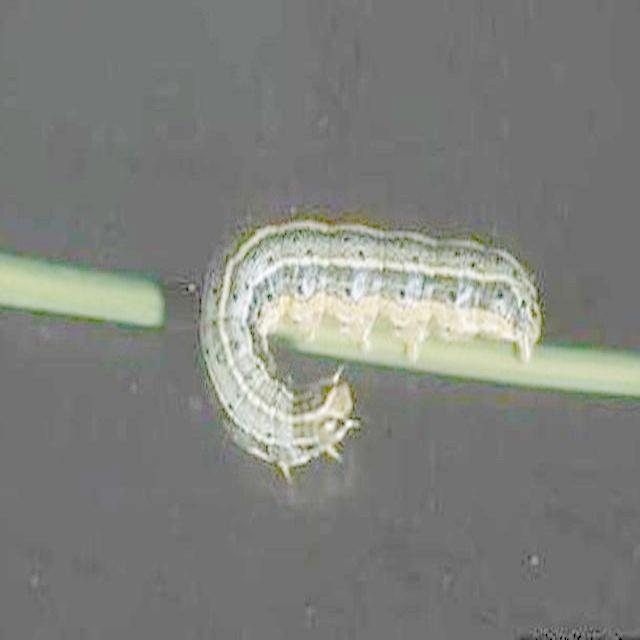Plaga: (205, 218, 533, 465)
